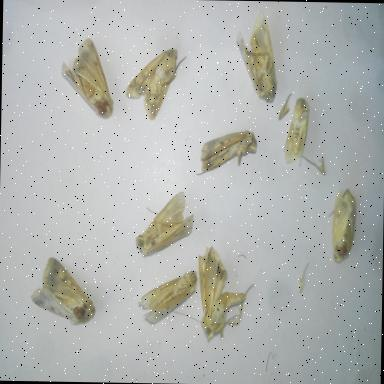abw: (194, 242, 257, 345), (56, 32, 118, 126), (122, 42, 190, 124), (28, 254, 98, 329), (133, 185, 199, 260), (233, 9, 282, 106), (134, 266, 202, 330), (192, 126, 260, 180), (324, 183, 362, 268), (278, 91, 314, 170)
